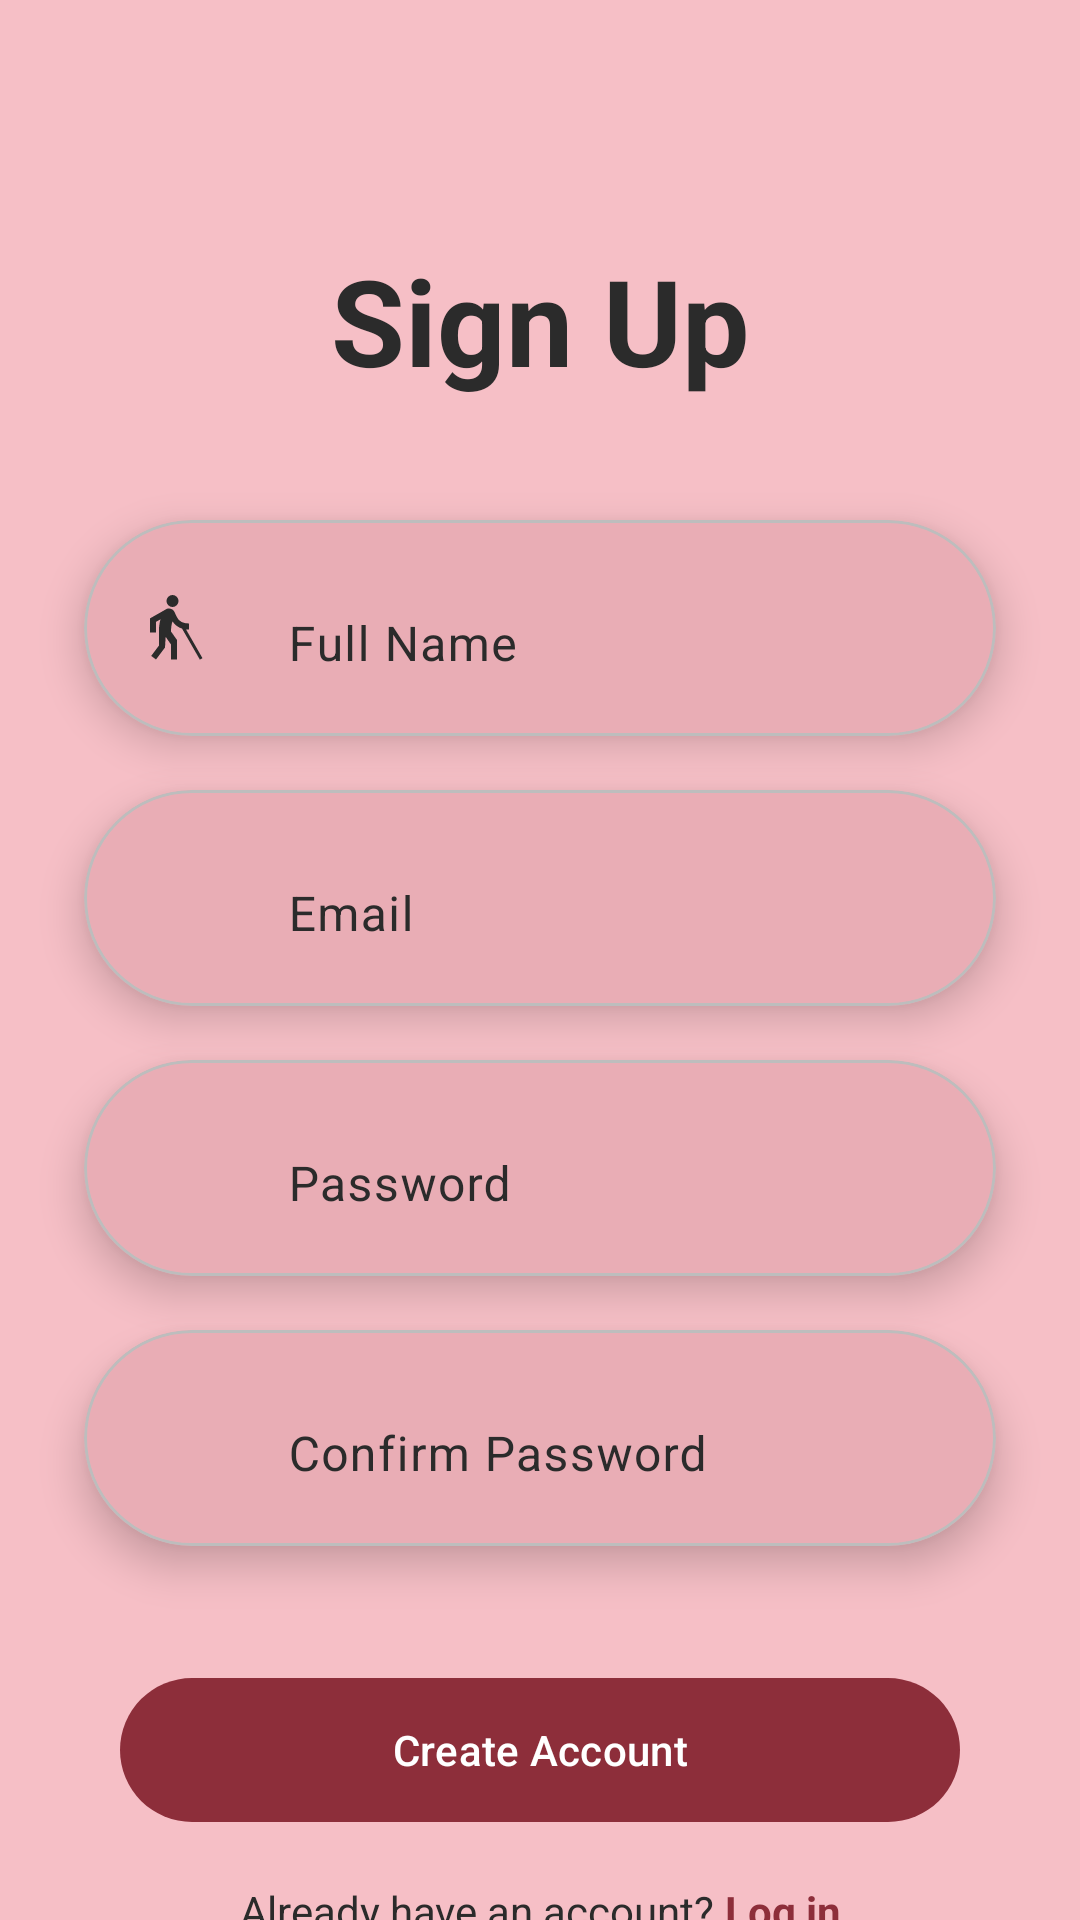

Icons on this 1080×1920 Android screen, each with its box as (x1, y1, x2, y2):
person: (150, 595, 202, 660)
